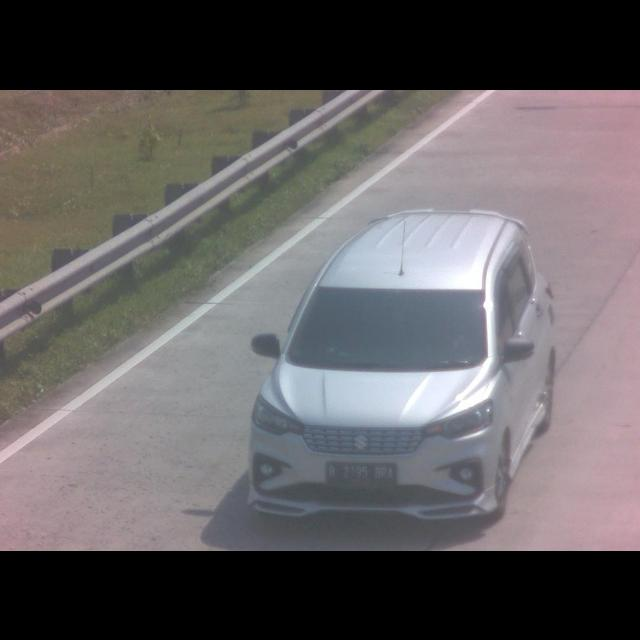plate: (323, 458, 399, 484)
